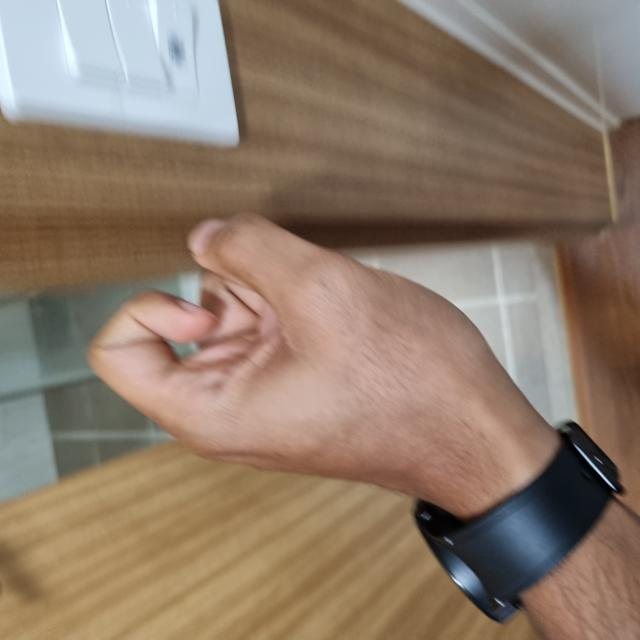Rock: (137, 86, 425, 534)
